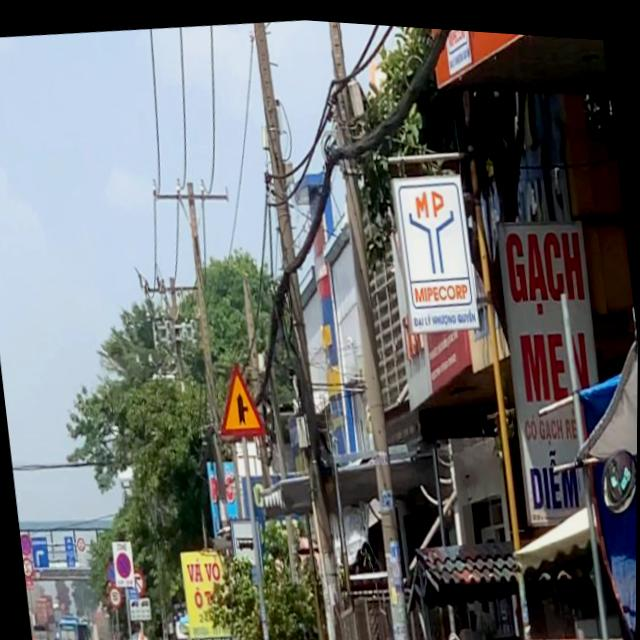Giao nhau voi duong khong uu tien ben phai: (211, 353, 271, 443)
